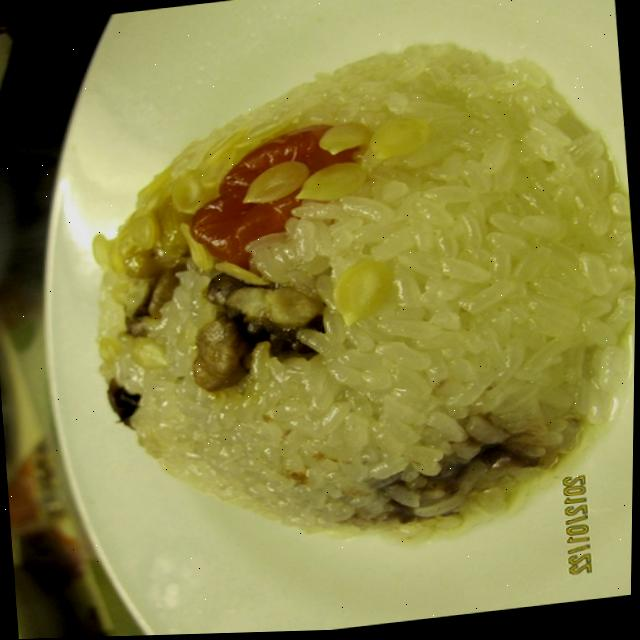米饭主食: (23, 0, 640, 639)
